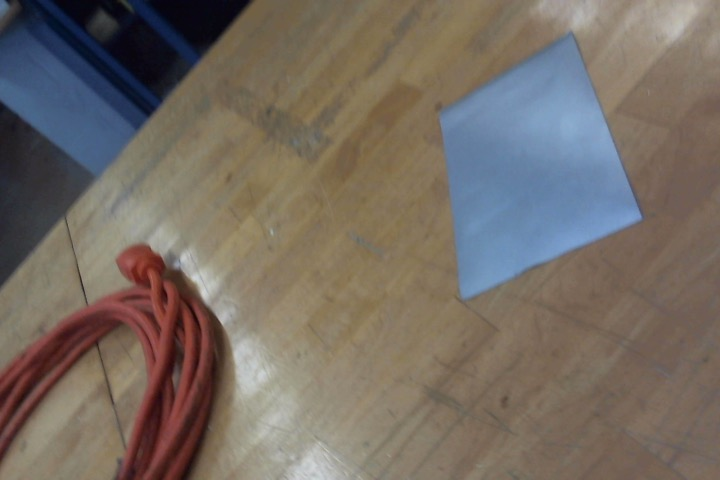Tape: (439, 31, 644, 300)
